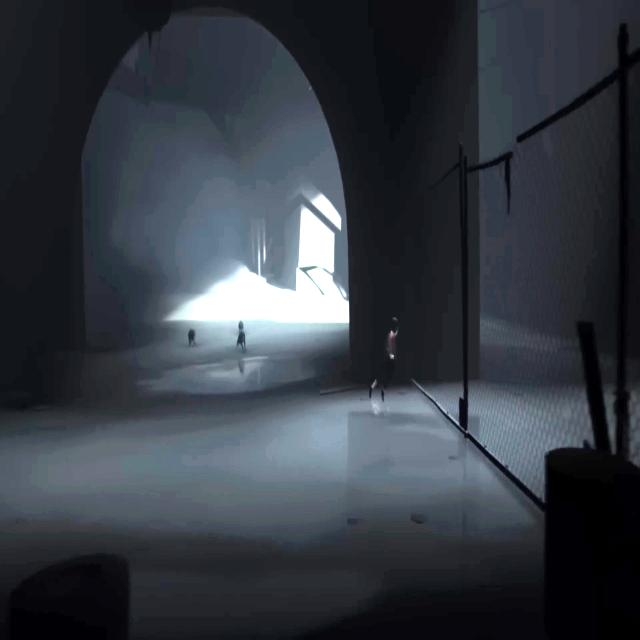boy: (369, 317, 398, 402)
dog: (236, 331, 246, 351), (188, 328, 196, 348), (238, 320, 244, 331)
